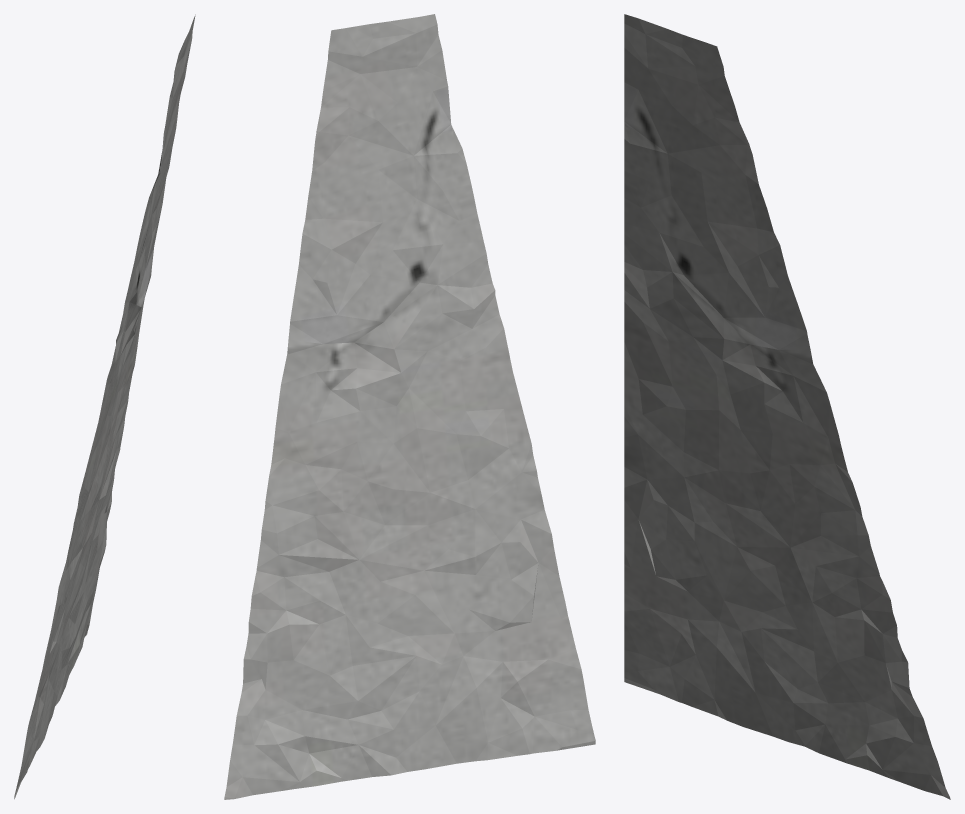
3 renders of one model, left to right at view 1: azimuth 30°, elevation 25°; view 2: azimuth 150°, elevation 25°; view 3: azimuth 270°, elevation 25°, orthographic. The views are drawn at different scales.
Size of the model in its own units: 0.2813 by 0.8373 by 0.3289.
Materials: 1 (1 with a texture image).
